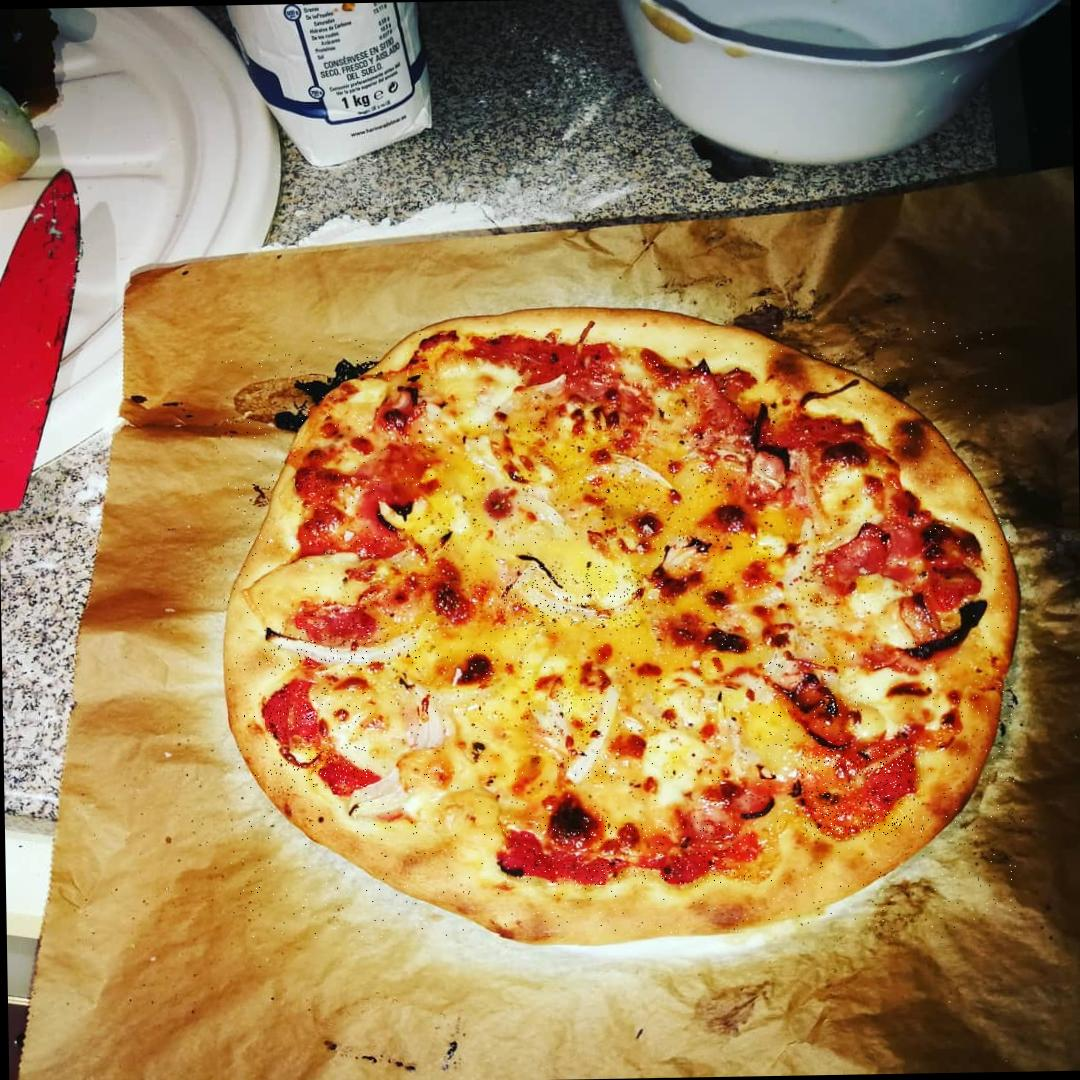Onion: (500, 564, 645, 630), (264, 620, 420, 668), (556, 686, 626, 784)
Pizza: (219, 322, 1018, 942)
Tomatoes: (506, 824, 752, 886), (801, 744, 925, 837), (265, 687, 368, 796), (824, 506, 922, 595), (764, 654, 857, 747)
